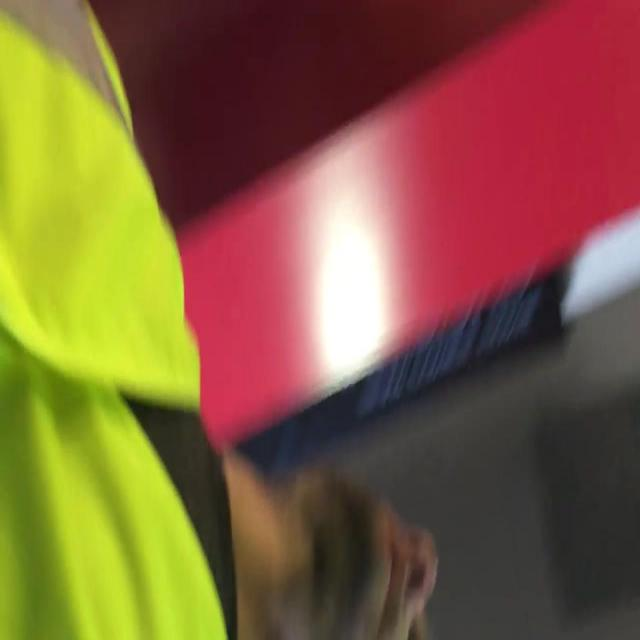Reflective-Jacket: (0, 11, 237, 640)
